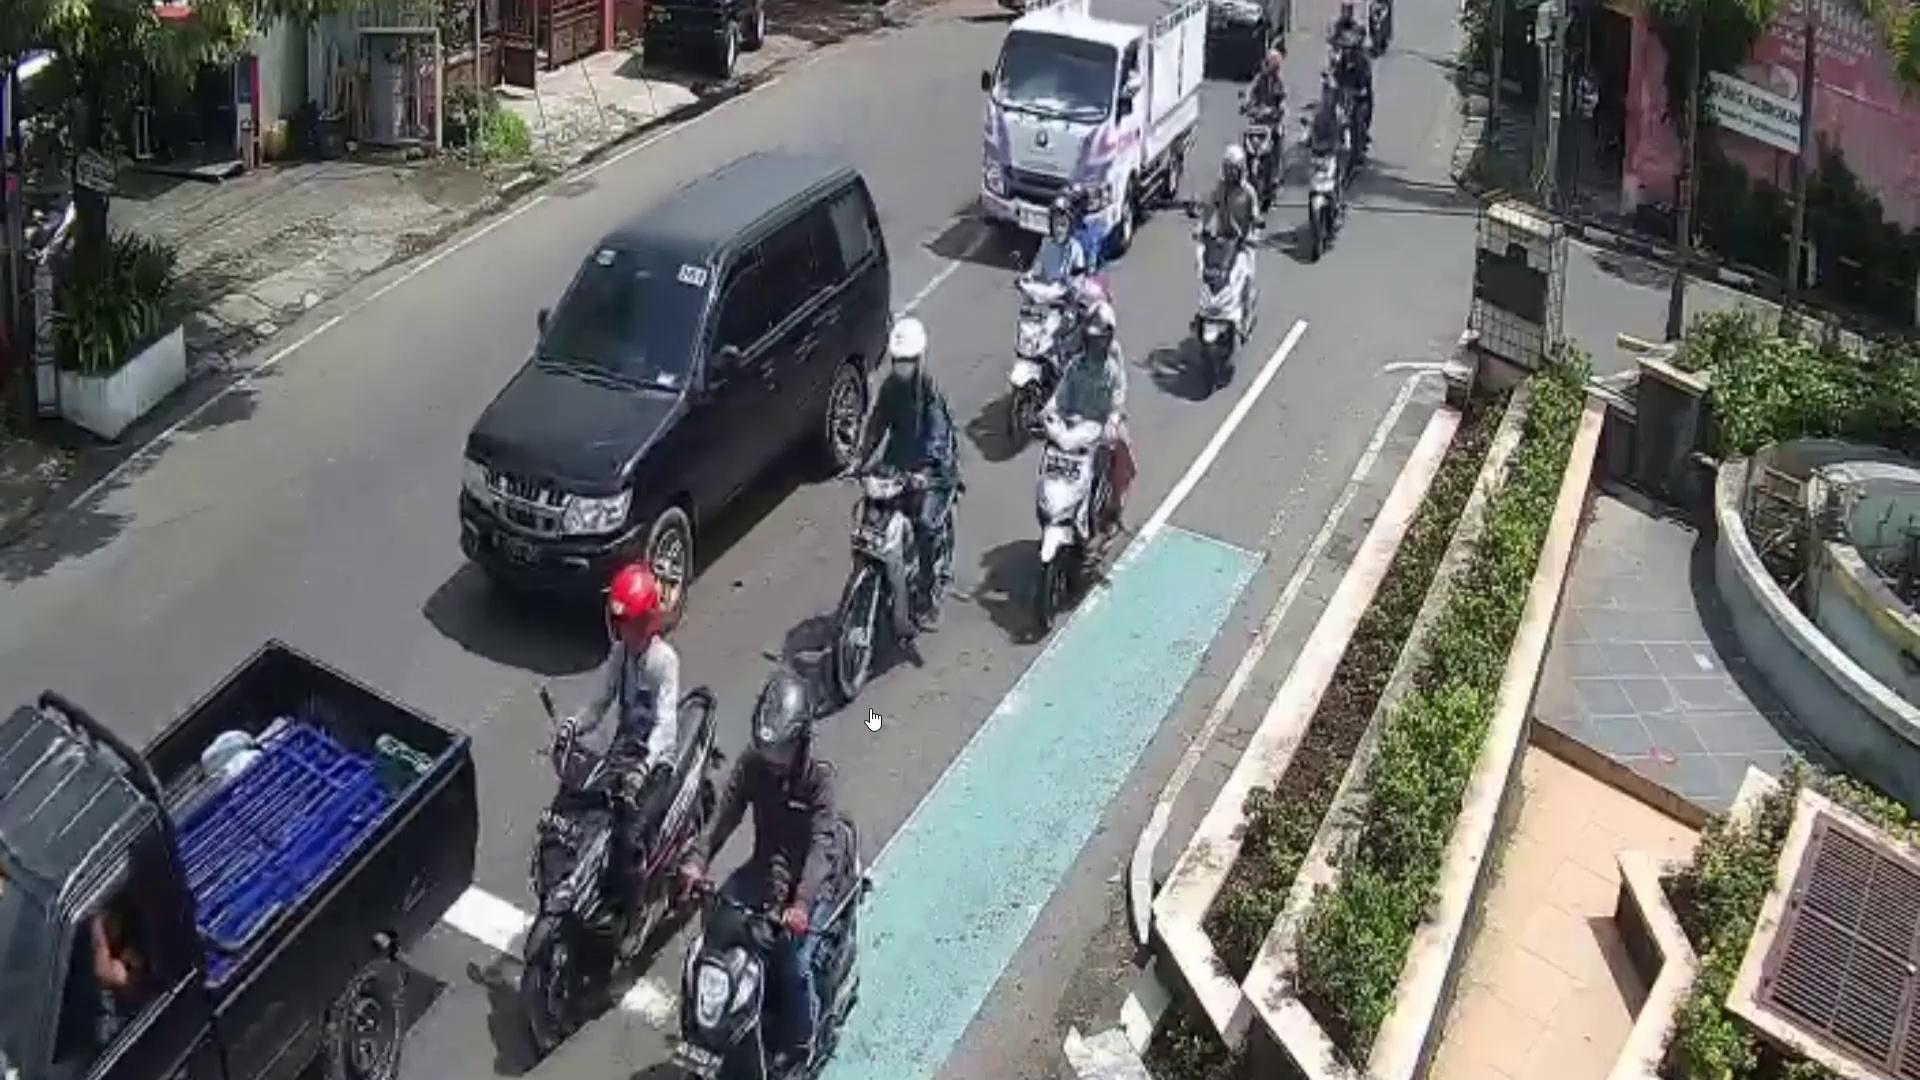car: (460, 146, 894, 630), (0, 640, 476, 1080)
motorbike: (521, 680, 719, 1052), (674, 804, 860, 1080), (839, 454, 910, 682), (1031, 410, 1098, 632), (1014, 272, 1072, 452), (1187, 228, 1249, 392)
truck: (977, 0, 1199, 255)
